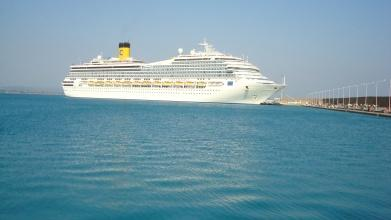youlun: (58, 40, 282, 102)
